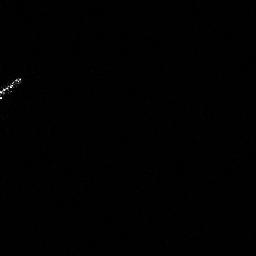ship: (1, 73, 26, 102)
